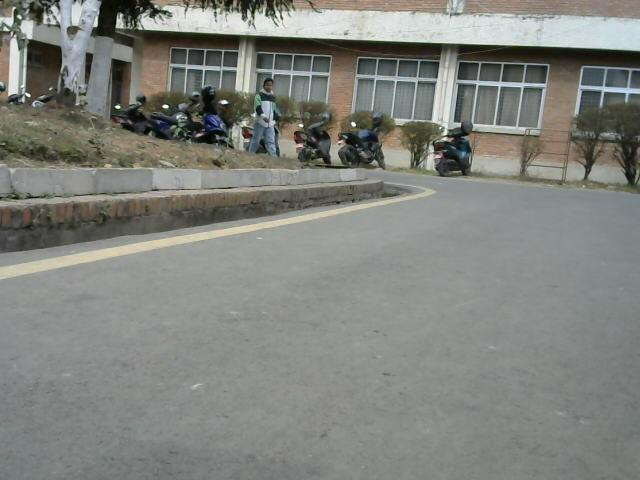Building: (147, 5, 640, 148)
Motorcycle: (167, 84, 232, 144), (430, 114, 482, 178), (286, 117, 339, 166), (334, 121, 388, 166)
Person: (251, 74, 274, 153)
Road: (5, 181, 640, 480)
Tree: (571, 108, 640, 191)
